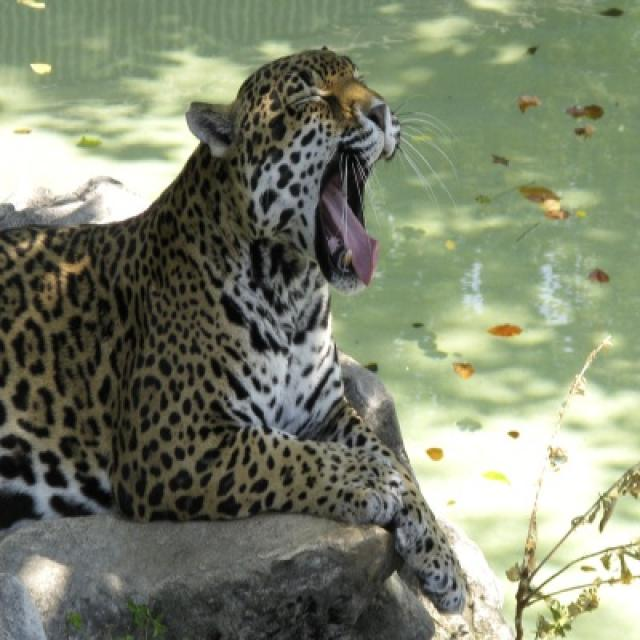Jaguar: (0, 41, 473, 608)
